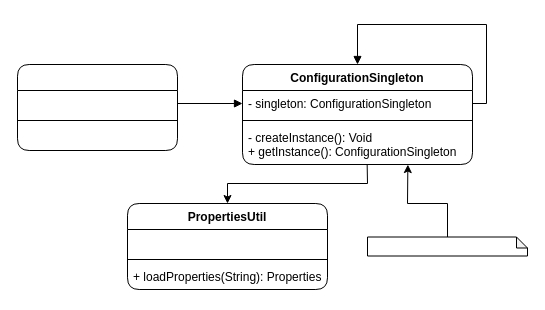
Some shapes in this 545 by 310 pixel diagram are drawn without their labels. The box of each missing label's shape, as (x1, y1, x2, y2) in pixels:
Configuration.properties: (366, 236, 528, 256)
SingletonMain: (16, 64, 178, 150)
